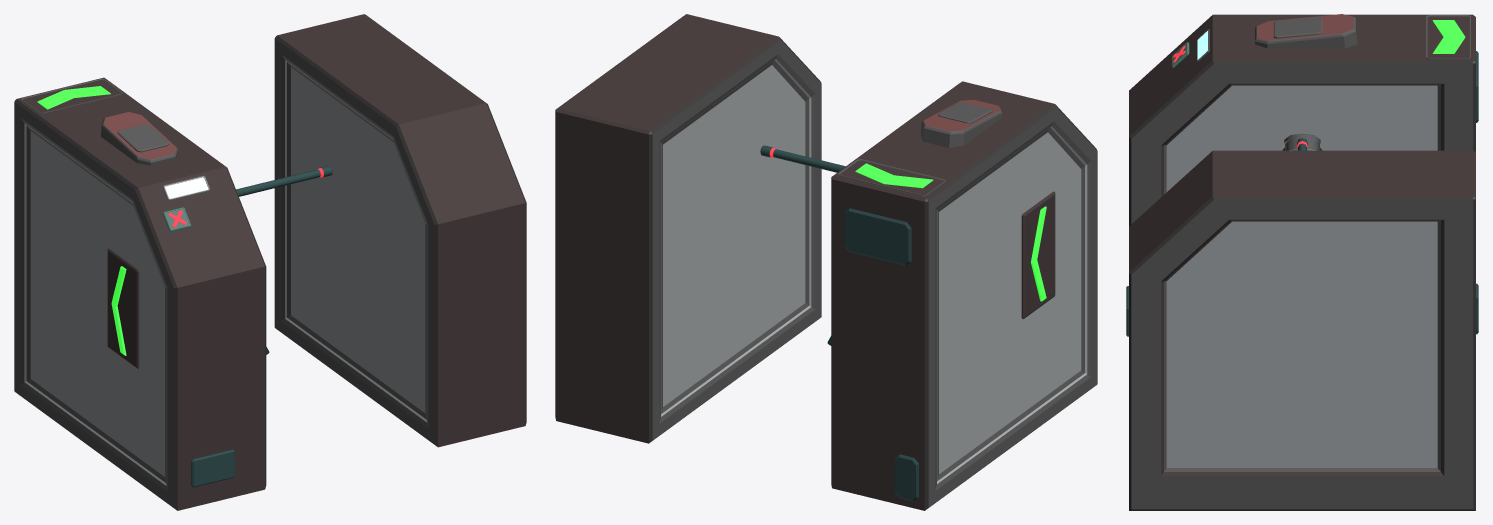
File: 05_Main.fbx
The picture shows the model from 3 angles, left to right: view 1: azimuth 30°, elevation 25°; view 2: azimuth 150°, elevation 25°; view 3: azimuth 270°, elevation 25°; orthographic projection. The views are drawn at different scales.
Parts seen in each view (by area): view 1: Cube.001, Cube.322, Cube.323, Cube.290, Cube.332, Cube.331, Cube.295, Cylinder.089, Cube.335, Cube.330, Cube.328; view 2: Cube.001, Cube.322, Cube.323, Cube.333, Cube.290, Cube.331, Cube.337, Cube.330, Cylinder.089, Cube.295, Cube.328; view 3: Cube.001, Cube.322, Cube.290, Cube.331, Cube.295, Cube.330, Cylinder.090.
Boxes of the visible parts, x1,y1,x2,y2 form: Cube.001: (274, 14, 526, 447); Cube.322: (14, 77, 266, 510); Cube.323: (107, 248, 139, 368); Cube.290: (101, 112, 177, 165); Cube.332: (191, 449, 234, 487); Cube.331: (21, 78, 122, 113); Cube.295: (117, 124, 169, 152); Cylinder.089: (236, 166, 332, 196); Cube.335: (162, 175, 210, 200); Cube.330: (37, 86, 110, 109); Cube.328: (111, 266, 126, 355); Cube.001: (555, 14, 821, 443); Cube.322: (831, 81, 1097, 510); Cube.323: (1021, 191, 1055, 318); Cube.333: (844, 208, 911, 265); Cube.290: (921, 99, 1002, 147); Cube.331: (838, 159, 945, 196); Cube.337: (894, 454, 918, 501); Cube.330: (855, 163, 933, 188); Cylinder.089: (760, 145, 845, 172); Cube.295: (938, 102, 992, 123); Cube.328: (1031, 206, 1046, 301); Cube.001: (1129, 150, 1475, 510); Cube.322: (1129, 14, 1475, 225); Cube.290: (1255, 14, 1357, 48); Cube.331: (1426, 15, 1470, 59); Cube.295: (1273, 17, 1322, 38); Cube.330: (1432, 20, 1465, 53); Cylinder.090: (1284, 133, 1320, 150).
Bounding box in the file's own units: 251 × 210 × 203.
